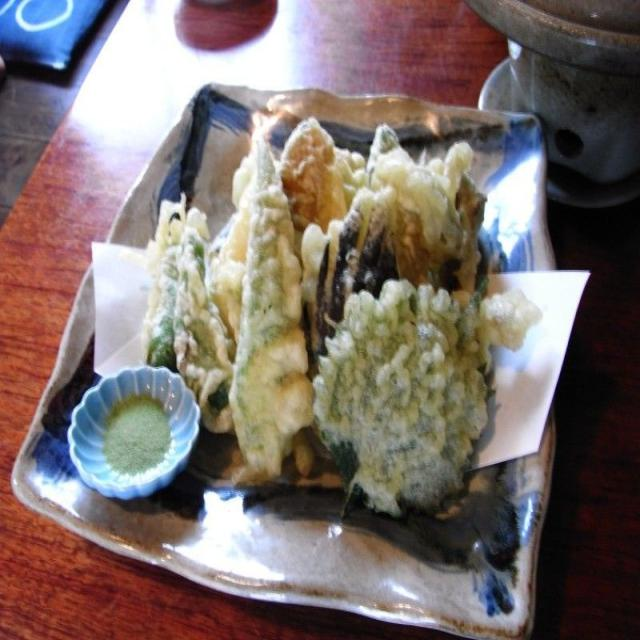蔬菜料理: (125, 111, 522, 529)
